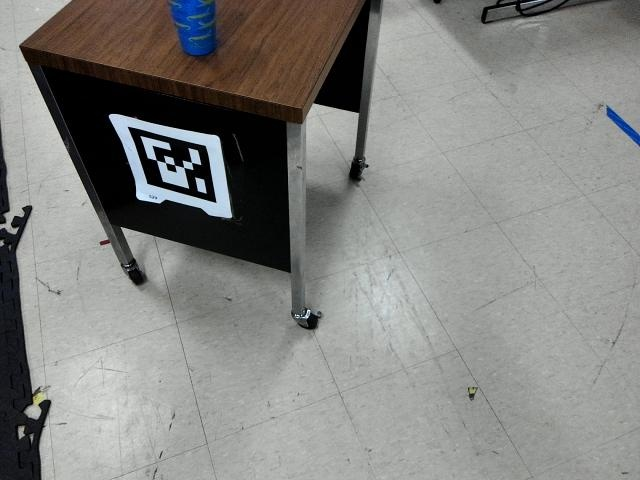water_cup: (156, 1, 234, 60)
